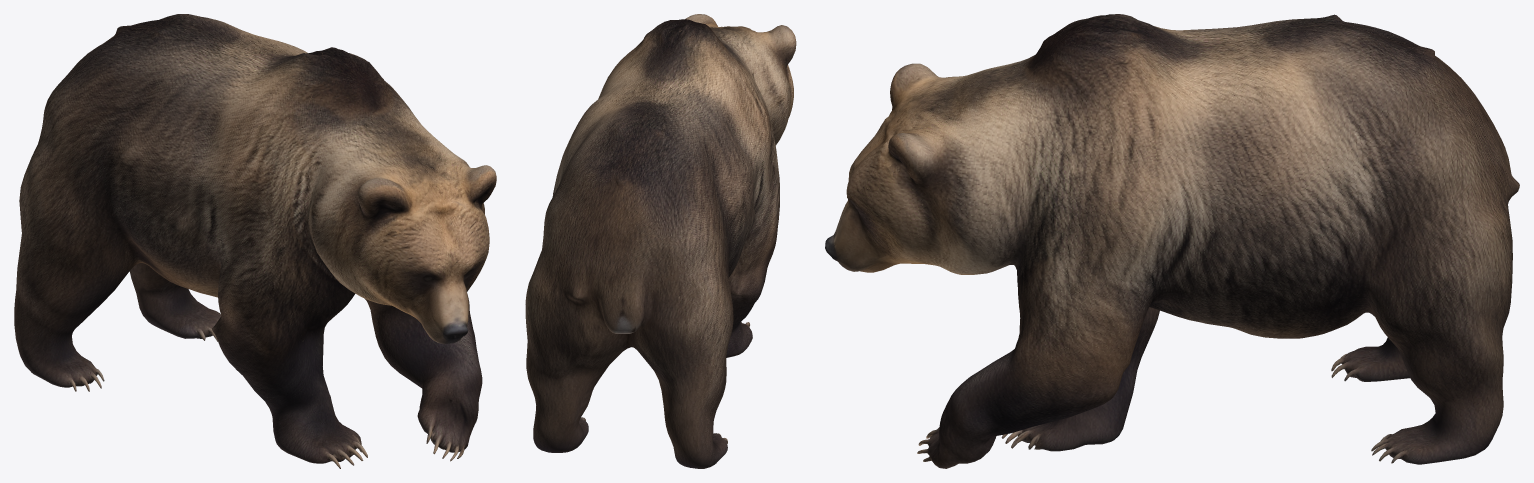
File: Bear_clean.glb
The picture shows the model from 3 angles, left to right: view 1: azimuth 30°, elevation 25°; view 2: azimuth 150°, elevation 25°; view 3: azimuth 270°, elevation 25°; orthographic projection. The views are drawn at different scales.
Visible parts, largest first — view 1: Bear; view 2: Bear; view 3: Bear.
Part boxes in pixels (x1=…): Bear: x1=14, y1=14, x2=496, y2=468; Bear: x1=525, y1=14, x2=796, y2=468; Bear: x1=825, y1=14, x2=1519, y2=468.
Size of the model in its own units: 1.04 by 1.3 by 1.9.
Materials: 1 (1 with a texture image).
